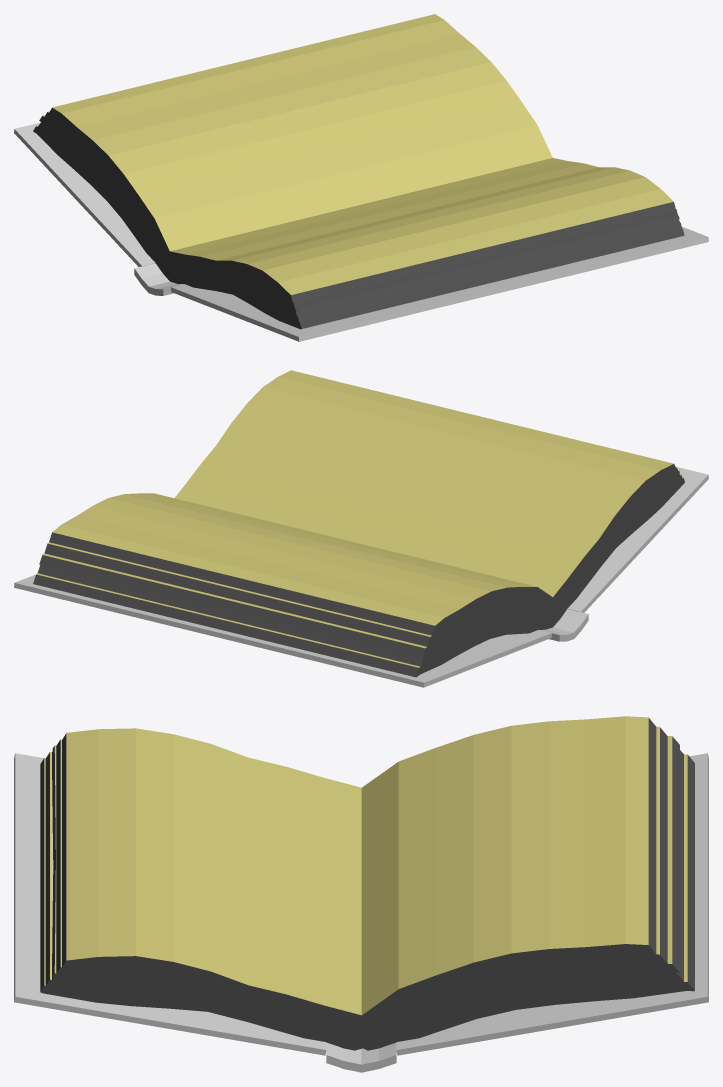
Rendered from SpellBookOpen.fbx.
The picture shows the model from 3 angles, top to bottom: view 1: azimuth 30°, elevation 25°; view 2: azimuth 150°, elevation 25°; view 3: azimuth 270°, elevation 25°; orthographic projection. The views are drawn at different scales.
Parts seen in each view (by area): view 1: SpellBookOpen; view 2: SpellBookOpen; view 3: SpellBookOpen.
Boxes of the visible parts, x1,y1,x2,y2 form: SpellBookOpen: [14, 14, 708, 341]; SpellBookOpen: [14, 370, 708, 687]; SpellBookOpen: [14, 716, 708, 1072].
Size of the model in its own units: 208 by 44.47 by 241.
